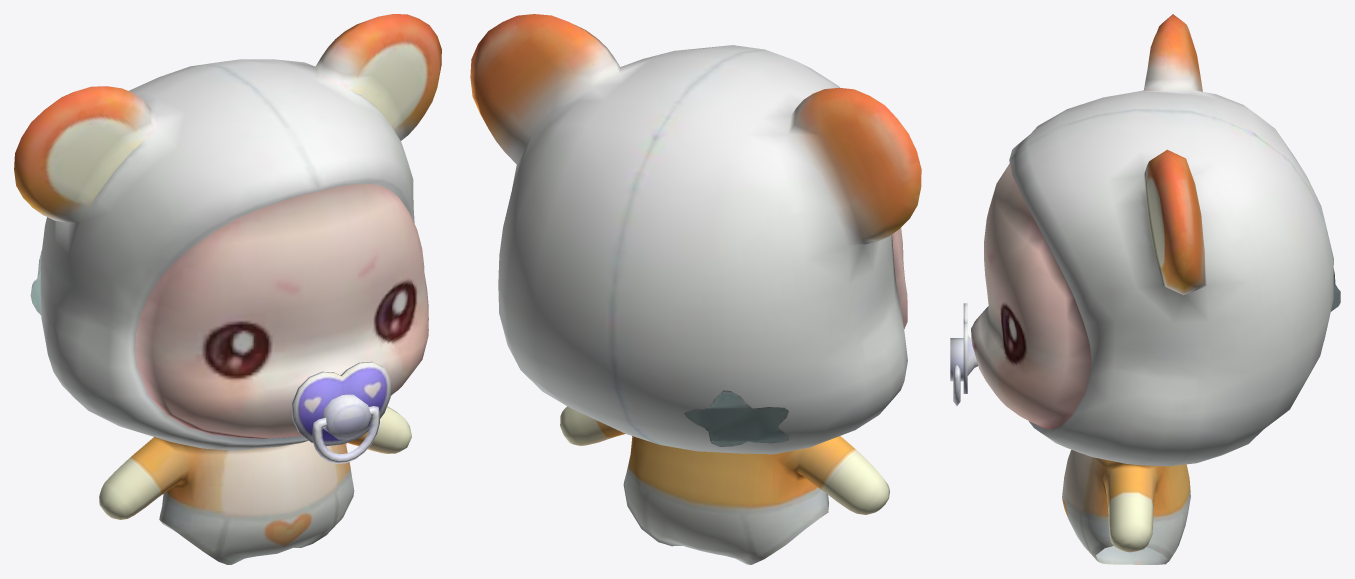
Rendered from pet_00098.glb.
3 renders of one model, left to right at view 1: azimuth 30°, elevation 25°; view 2: azimuth 150°, elevation 25°; view 3: azimuth 270°, elevation 25°, orthographic. The views are drawn at different scales.
Bounding box in the file's own units: 0.9234 × 1 × 0.7661.
Materials: 2 (2 with a texture image).
